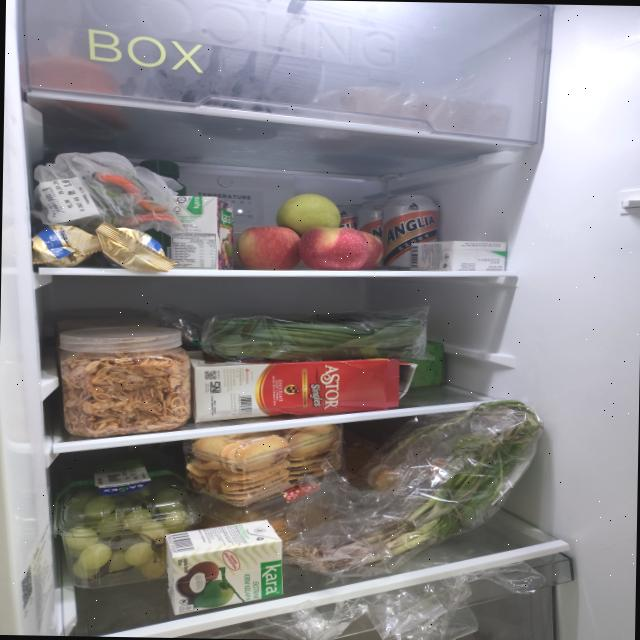apple: (235, 192, 384, 272)
chili: (90, 170, 178, 229)
coconut_milk: (163, 516, 285, 618), (170, 195, 234, 270)
grape: (64, 482, 190, 580)
leafy_greens: (208, 308, 426, 362)
spring_onion: (282, 394, 544, 576)
